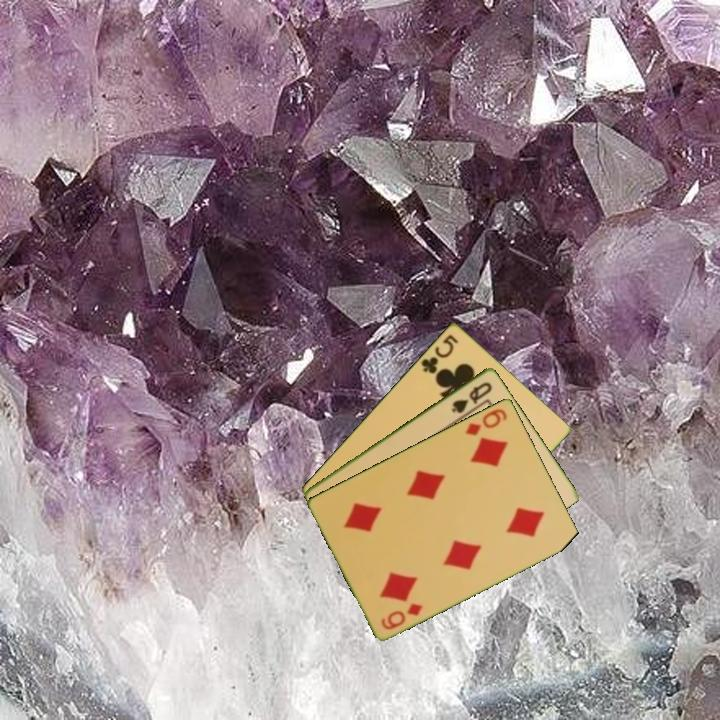5c: (417, 330, 461, 378)
6d: (462, 405, 510, 438), (377, 599, 425, 632)
Qs: (448, 378, 495, 416)
